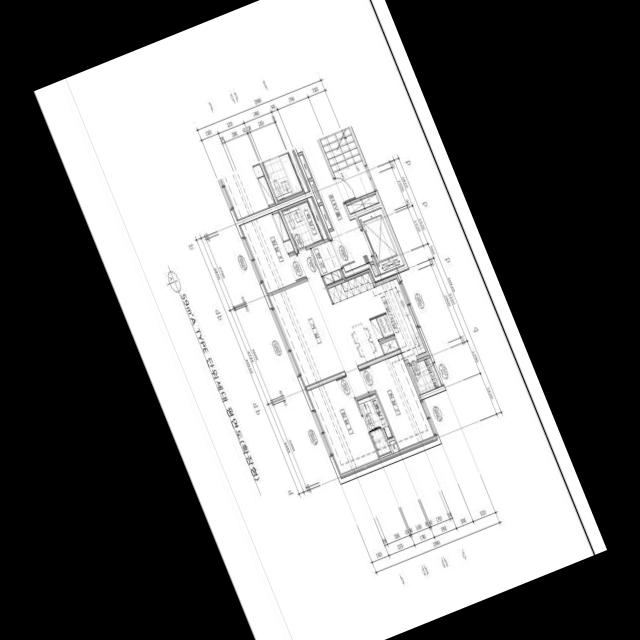background: (33, 0, 607, 640)
space_bedroom: (305, 375, 380, 478), (360, 353, 437, 453), (238, 210, 305, 293)
space_elevator: (357, 207, 404, 274)
space_elevator_hall: (295, 140, 372, 272)
space_front: (311, 240, 345, 286)
space_kitchen: (327, 268, 429, 365)
space_living_room: (267, 248, 367, 397)
space_other: (307, 196, 328, 239), (346, 193, 379, 214), (298, 154, 311, 179), (318, 204, 331, 229), (308, 180, 321, 203), (380, 338, 398, 354), (389, 440, 400, 456), (370, 264, 378, 276)
space_outdoor_room: (409, 357, 441, 394)
space_staircase: (319, 126, 374, 202)
space_toilet: (356, 393, 393, 456), (281, 200, 322, 250)
